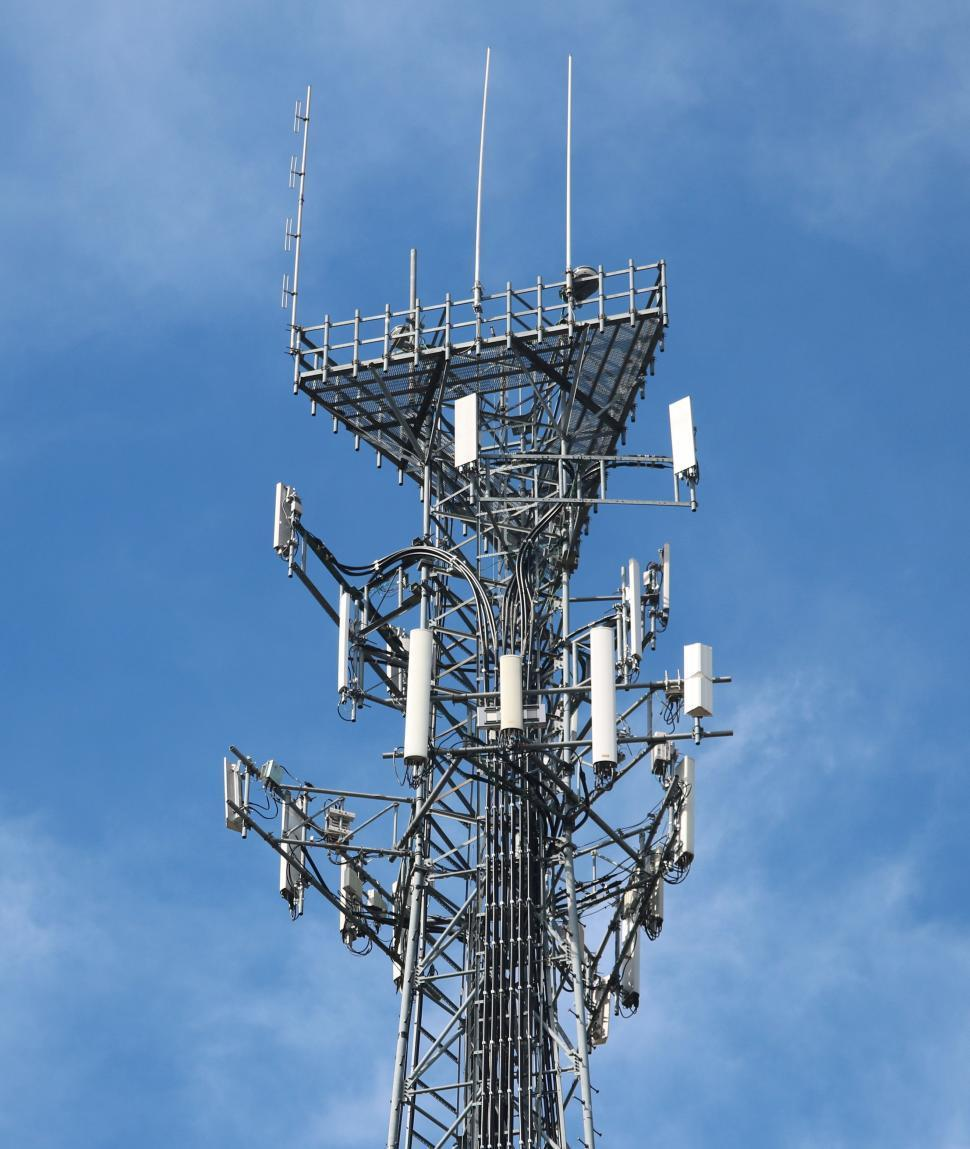antenna: (398, 626, 438, 776), (586, 615, 619, 764), (254, 471, 301, 562), (668, 752, 705, 863), (331, 581, 361, 715), (616, 882, 646, 1004), (677, 641, 719, 724), (278, 793, 308, 908), (665, 393, 702, 479), (451, 388, 483, 467), (498, 649, 527, 732), (341, 850, 365, 943), (220, 755, 248, 829), (626, 562, 645, 663), (660, 533, 678, 622)
